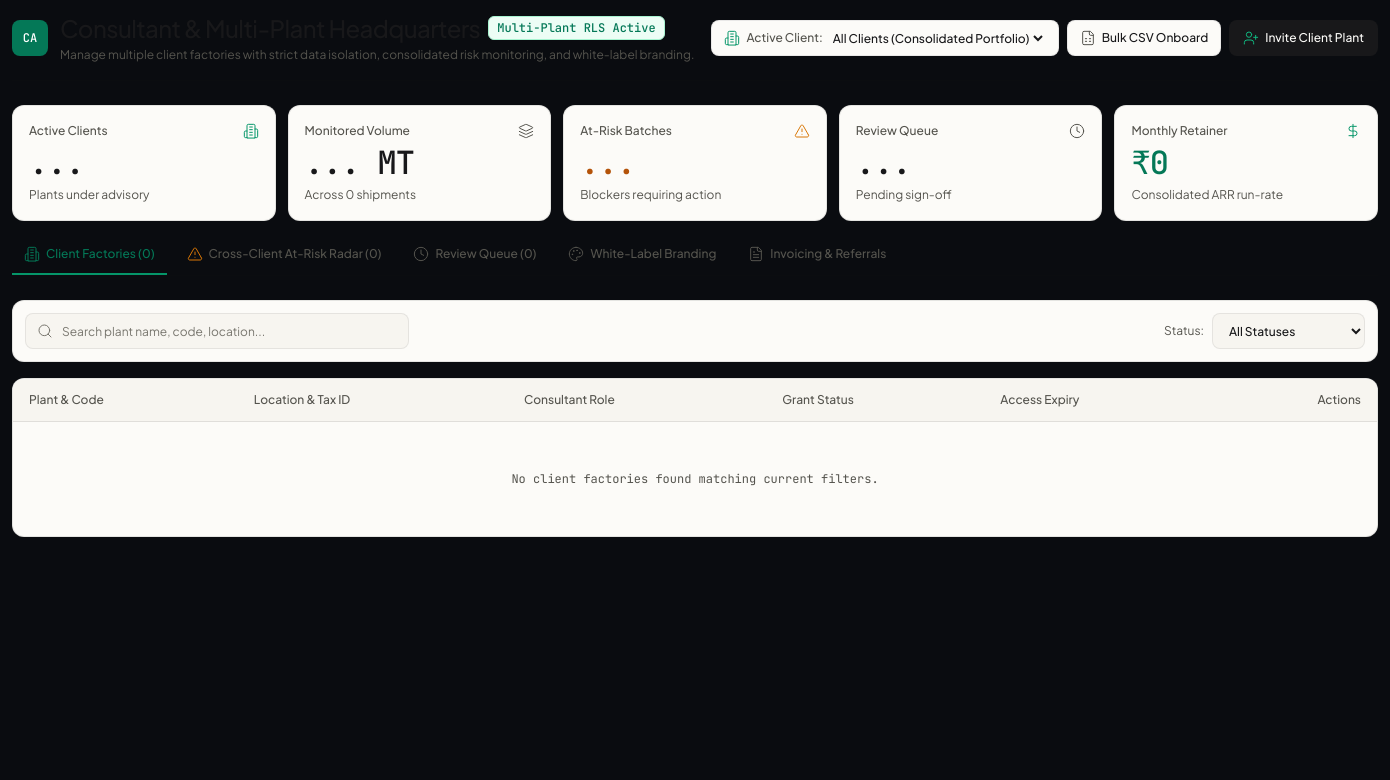
Test: ConsultantPortalView (Prompt P10: Consultant & Multi-Plant Mode) › switches to White-Label Branding Studio and updates branding with immutable footer
Later steps or results of the test are not shown.
Click the button "White-Label Branding". click: (642, 260)
box: left=556, top=245, right=728, bottom=275
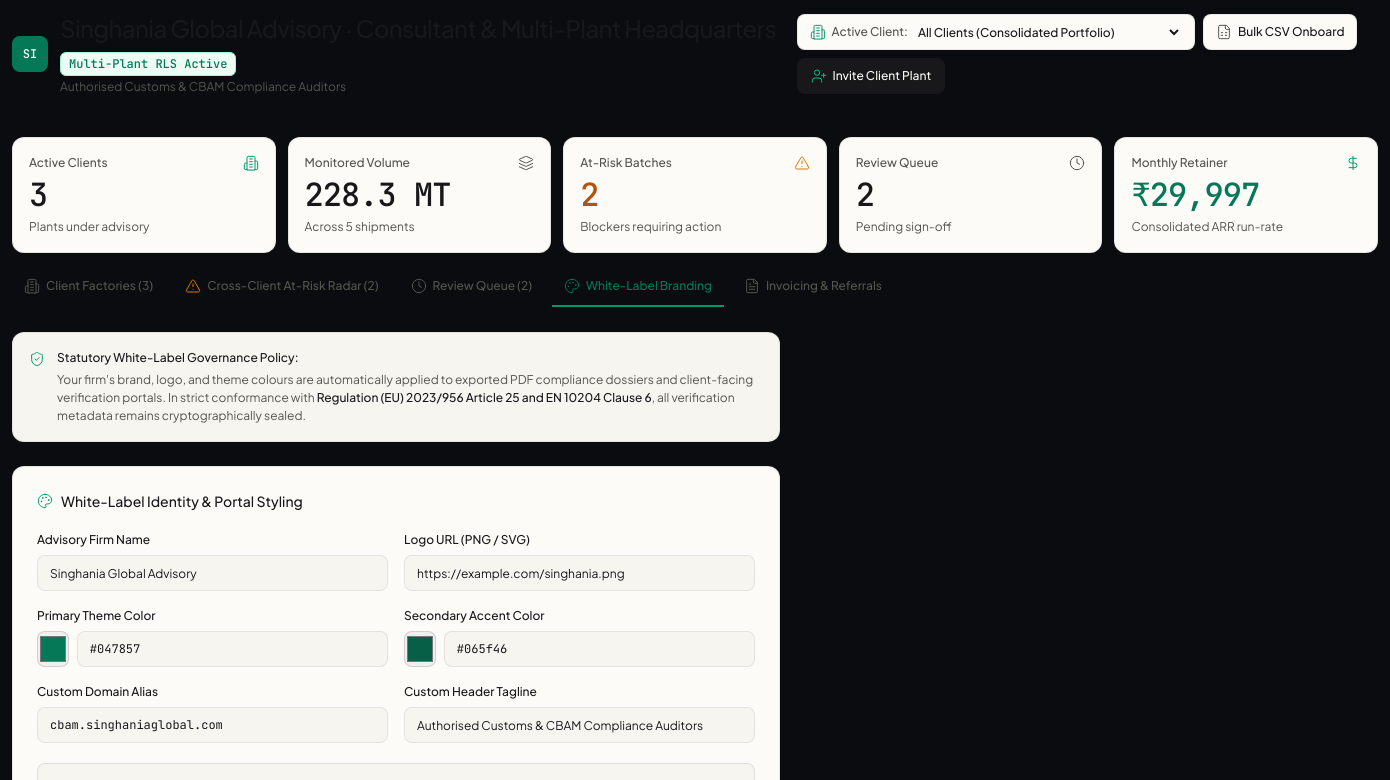
expect the text "White-Label Identity & Portal Styling" is shown: met, box left=61, top=491, right=303, bottom=511
